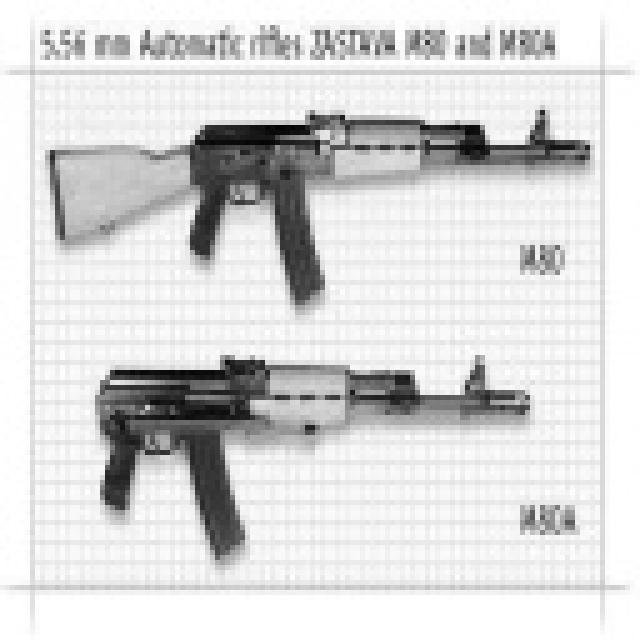Rifle: (0, 82, 640, 320), (68, 351, 577, 583)
